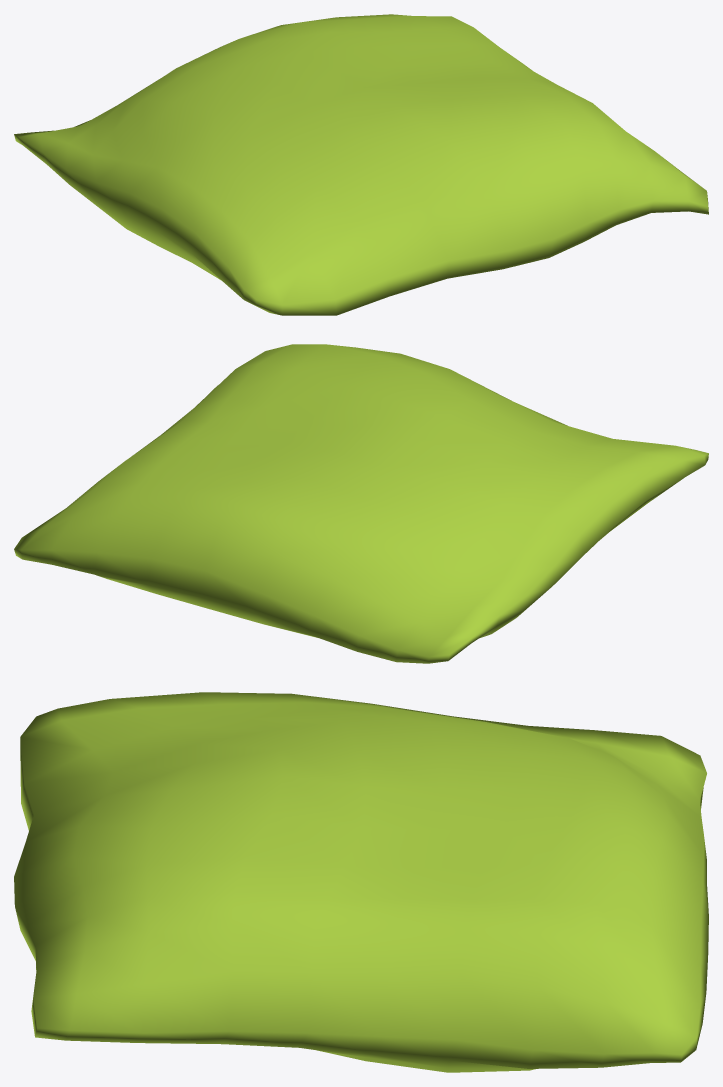
Rendered from cuscino_verde.fbx.
3 views of the same model, one above another, from view 1: azimuth 30°, elevation 25°; view 2: azimuth 150°, elevation 25°; view 3: azimuth 270°, elevation 25° (orthographic). The views are drawn at different scales.
Visible parts, largest first — view 1: Cube; view 2: Cube; view 3: Cube.
Boxes of the visible parts, <box> form: Cube: <box>14,14,708,315</box>; Cube: <box>14,344,708,663</box>; Cube: <box>14,692,708,1072</box>.
Size of the model in its own units: 26.04 by 8.52 by 25.32.
